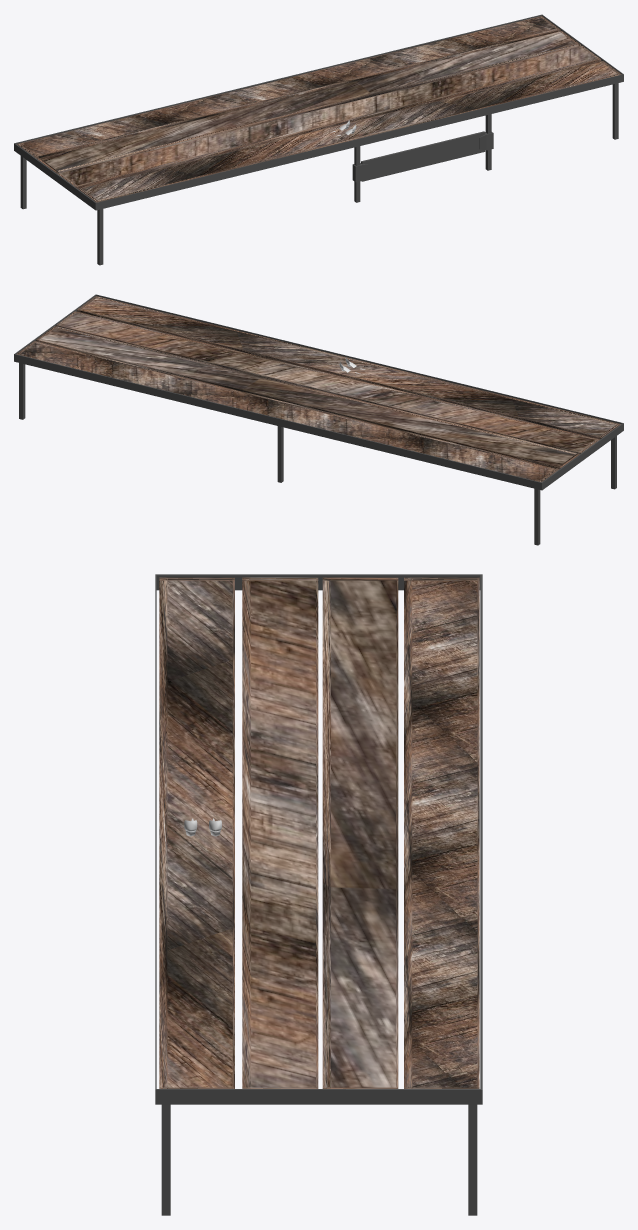
File: plank.glb
The picture shows the model from 3 angles, top to bottom: view 1: azimuth 30°, elevation 25°; view 2: azimuth 150°, elevation 25°; view 3: azimuth 270°, elevation 25°; orthographic projection. The views are drawn at different scales.
Visible parts, largest first — view 1: Cube.001, Cube.002, Cube.004, Cube.003, Cube; view 2: Cube, Cube.003, Cube.002, Cube.004, Cube.001; view 3: Cube.002, Cube.003, Cube.004, Cube, Cube.001.
Part boxes in pixels (bbox=[...]): Cube.001: bbox=[14, 14, 623, 265]; Cube.002: bbox=[57, 45, 601, 188]; Cube.004: bbox=[17, 16, 560, 158]; Cube.003: bbox=[37, 31, 580, 173]; Cube: bbox=[78, 61, 621, 202]; Cube: bbox=[77, 296, 620, 439]; Cube.003: bbox=[36, 326, 579, 468]; Cube.002: bbox=[56, 311, 599, 453]; Cube.004: bbox=[16, 341, 559, 482]; Cube.001: bbox=[14, 294, 623, 545]; Cube.002: bbox=[242, 577, 318, 1088]; Cube.003: bbox=[322, 577, 398, 1088]; Cube.004: bbox=[404, 577, 479, 1088]; Cube: bbox=[159, 577, 234, 1088]; Cube.001: bbox=[155, 574, 482, 1215].
Size of the model in its own units: 12.13 by 1.59 by 3.25.
Materials: 2 (1 with a texture image).
